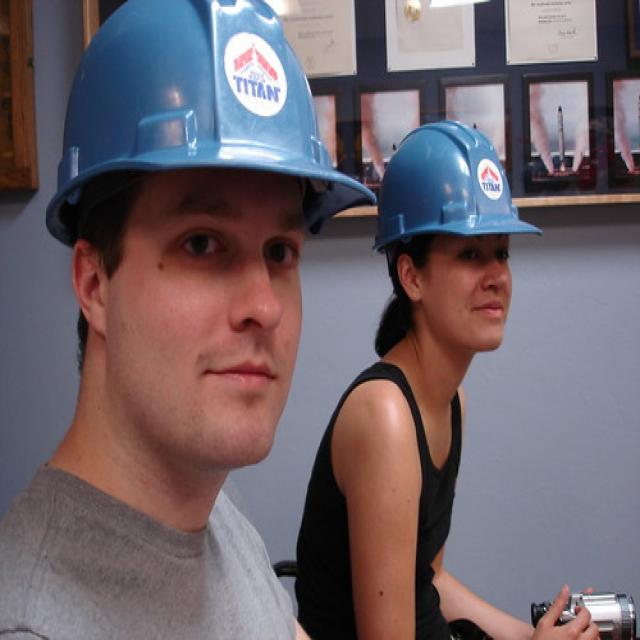Safety-Helmet: (37, 5, 371, 248), (361, 111, 544, 263)
